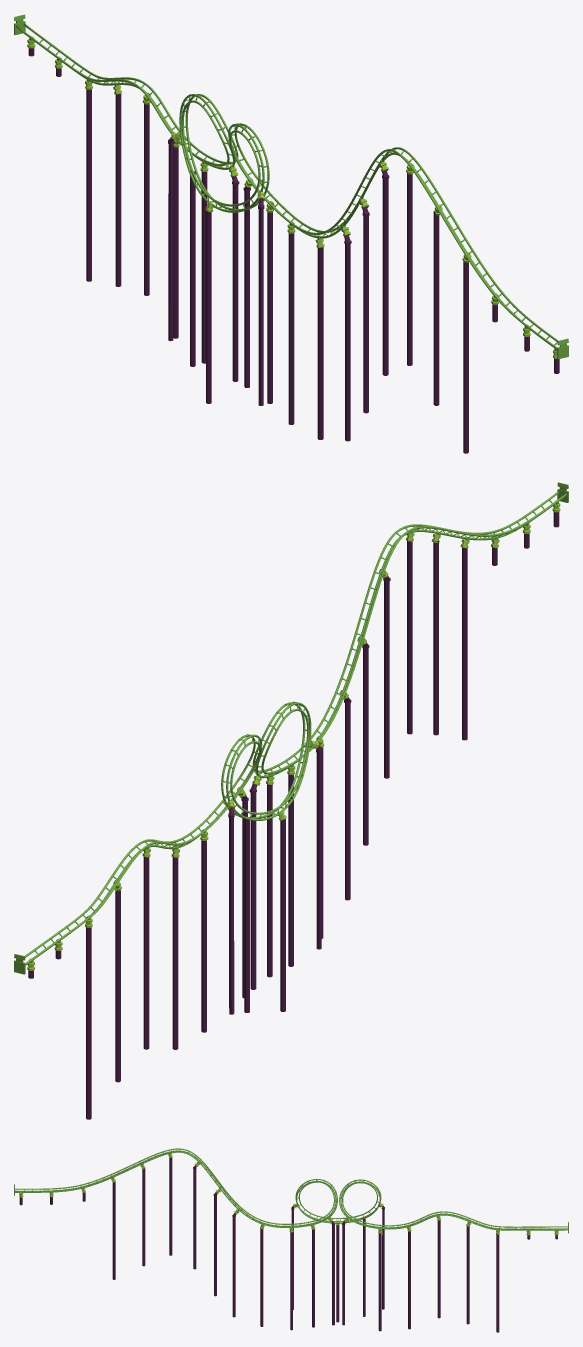
Rendered from WW Rollercoaster Track TEST.fbx.
3 renders of one model, top to bottom at view 1: azimuth 30°, elevation 25°; view 2: azimuth 150°, elevation 25°; view 3: azimuth 270°, elevation 25°, orthographic. The views are drawn at different scales.
Visible parts, largest first — view 1: geo node, POST MANUAL.006, POST MANUAL.017, POST MANUAL.013, POST MANUAL.009, POST MANUAL.004, POST MANUAL.010, POST MANUAL.007, POST MANUAL.028, POST MANUAL.029, POST MANUAL.018, POST MANUAL.008 (+10 smaller); view 2: geo node, POST MANUAL.008, POST MANUAL.011, POST MANUAL.012, POST MANUAL.029, POST MANUAL.007, POST MANUAL.028, POST MANUAL.006, POST MANUAL.004, POST MANUAL.022, POST MANUAL.005, POST MANUAL.003 (+8 smaller); view 3: geo node, POST MANUAL.006, POST MANUAL.007, POST MANUAL.012, POST MANUAL.019, POST MANUAL.005, POST MANUAL.013, POST MANUAL.004, POST MANUAL.009, POST MANUAL.014, POST MANUAL.003, POST MANUAL.021 (+9 smaller).
Part boxes in pixels (x1=…): geo node: x1=15, y1=23, x2=558, y2=349; POST MANUAL.006: x1=382, y1=170, x2=389, y2=375; POST MANUAL.017: x1=232, y1=175, x2=239, y2=381; POST MANUAL.013: x1=115, y1=93, x2=121, y2=286; POST MANUAL.009: x1=317, y1=247, x2=323, y2=439; POST MANUAL.004: x1=433, y1=211, x2=439, y2=405; POST MANUAL.010: x1=288, y1=233, x2=294, y2=424; POST MANUAL.007: x1=344, y1=235, x2=351, y2=441; POST MANUAL.028: x1=362, y1=207, x2=369, y2=413; POST MANUAL.029: x1=258, y1=198, x2=264, y2=405; POST MANUAL.018: x1=168, y1=137, x2=174, y2=341; POST MANUAL.008: x1=243, y1=186, x2=250, y2=387; geo node: x1=25, y1=491, x2=567, y2=965; POST MANUAL.008: x1=249, y1=783, x2=257, y2=989; POST MANUAL.011: x1=172, y1=857, x2=178, y2=1049; POST MANUAL.012: x1=143, y1=857, x2=149, y2=1049; POST MANUAL.029: x1=316, y1=745, x2=322, y2=949; POST MANUAL.007: x1=344, y1=697, x2=351, y2=900; POST MANUAL.028: x1=362, y1=642, x2=369, y2=845; POST MANUAL.006: x1=383, y1=576, x2=390, y2=778; POST MANUAL.004: x1=433, y1=540, x2=438, y2=735; POST MANUAL.022: x1=244, y1=817, x2=249, y2=1012; POST MANUAL.005: x1=407, y1=541, x2=412, y2=734; POST MANUAL.003: x1=462, y1=547, x2=467, y2=740; geo node: x1=15, y1=1148, x2=567, y2=1230; POST MANUAL.006: x1=193, y1=1165, x2=196, y2=1269; POST MANUAL.007: x1=232, y1=1213, x2=235, y2=1317; POST MANUAL.012: x1=437, y1=1220, x2=440, y2=1318; POST MANUAL.019: x1=378, y1=1233, x2=381, y2=1331; POST MANUAL.005: x1=169, y1=1157, x2=172, y2=1255; POST MANUAL.013: x1=466, y1=1226, x2=469, y2=1324; POST MANUAL.004: x1=142, y1=1168, x2=145, y2=1266; POST MANUAL.009: x1=260, y1=1229, x2=263, y2=1326; POST MANUAL.014: x1=496, y1=1234, x2=499, y2=1332; POST MANUAL.003: x1=112, y1=1182, x2=115, y2=1279; POST MANUAL.021: x1=336, y1=1225, x2=339, y2=1322.
Bounding box in the file's own units: 616 × 4675 × 12877.
